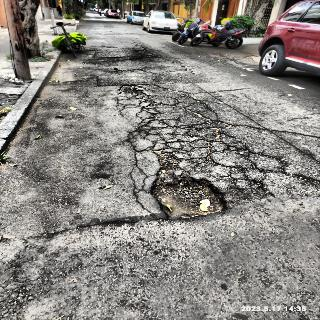alligator-crack: (132, 102, 229, 175)
pothole: (147, 172, 232, 221)
